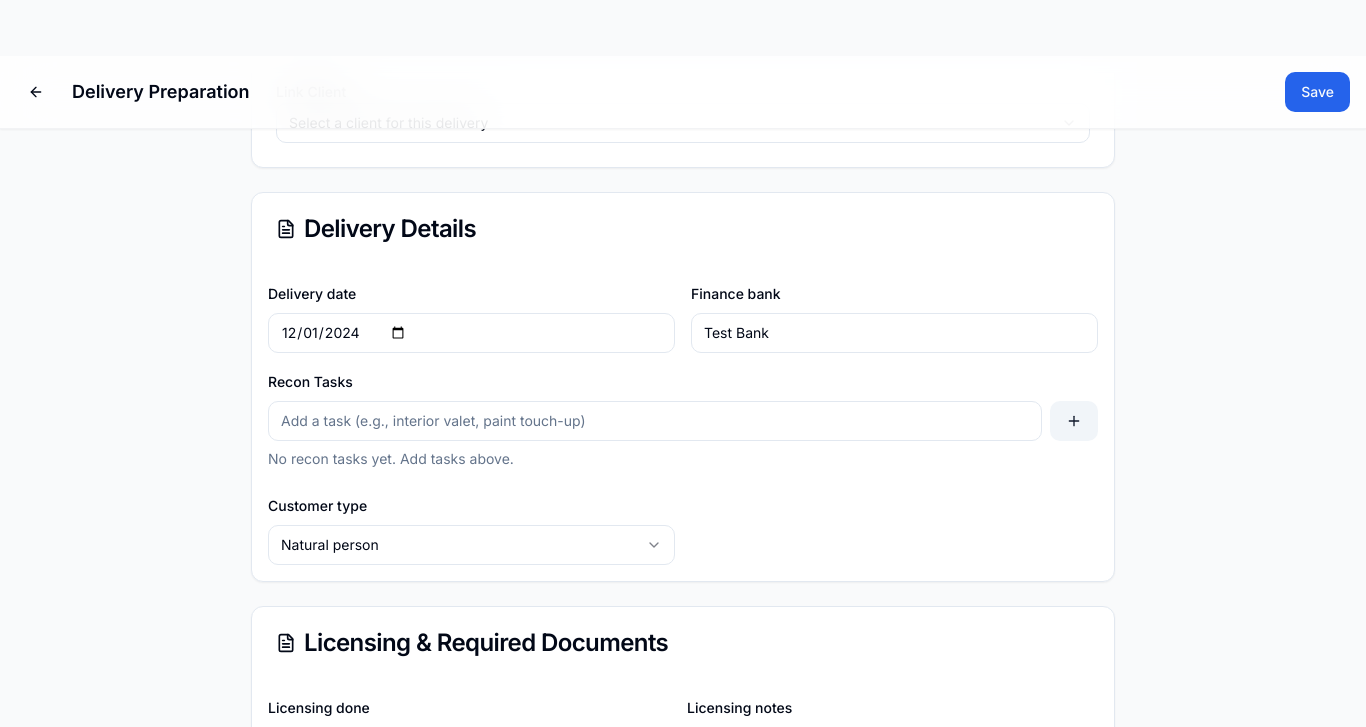
Test: DeliveryDetail › adds new recon task
(page scrolled)
Type "Fix bumper" into the field with placeholder "Add a task (e.g., interior valet, paint touch-up)".
click(655, 420); type("Fix bumper")  # box left=268, top=400, right=1042, bottom=440
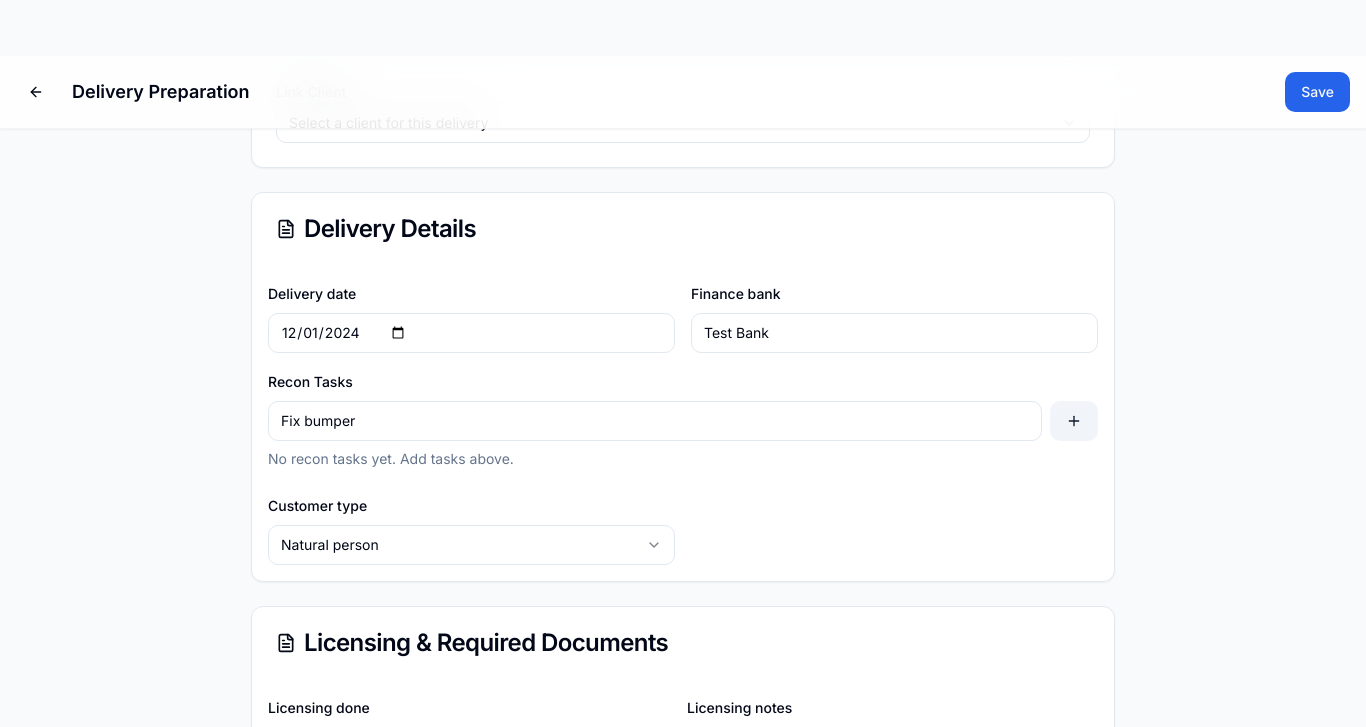
Click the 3rd button.
click(1074, 420)  # box left=1050, top=400, right=1098, bottom=440
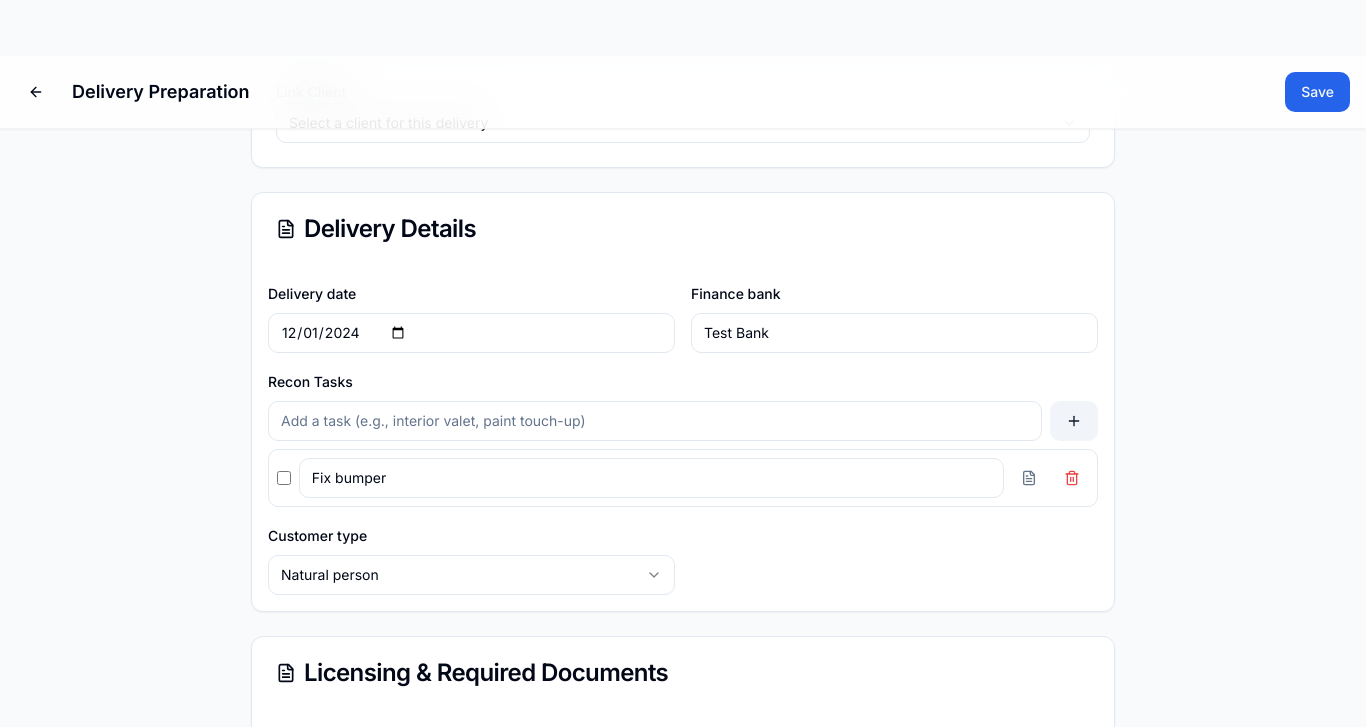
Result: the field showing "Fix bumper" is shown at left=299, top=458, right=1004, bottom=498
